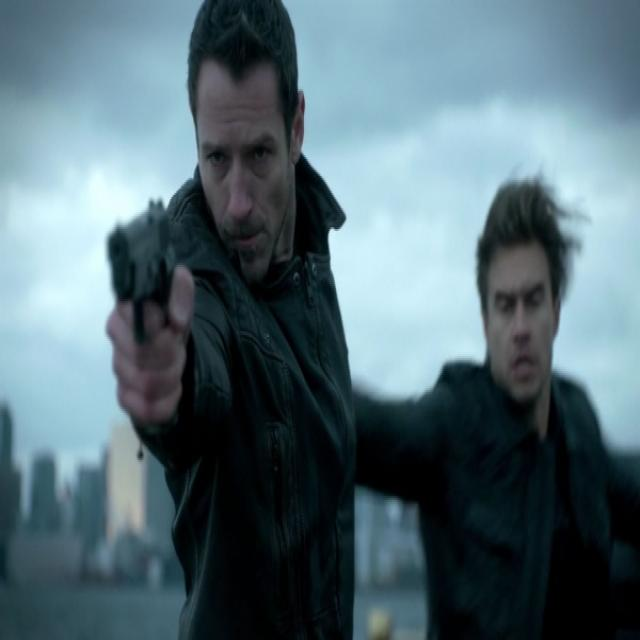weapons: (92, 170, 192, 402)
